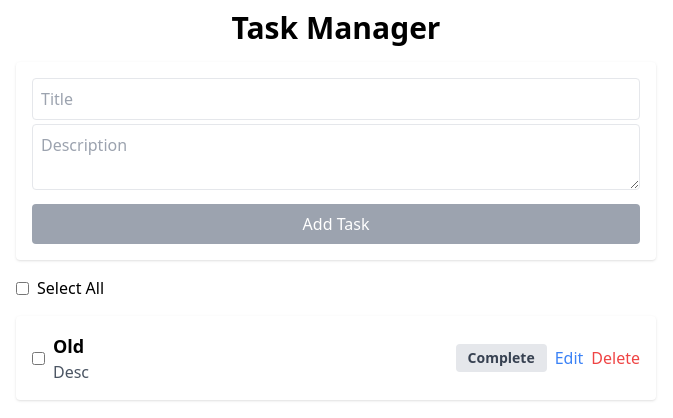
Scenario: App Component › can type valid title and description and enable button
In the field with placeholder "Title": (336, 99) [32,78,640,120], type "Valid Title"
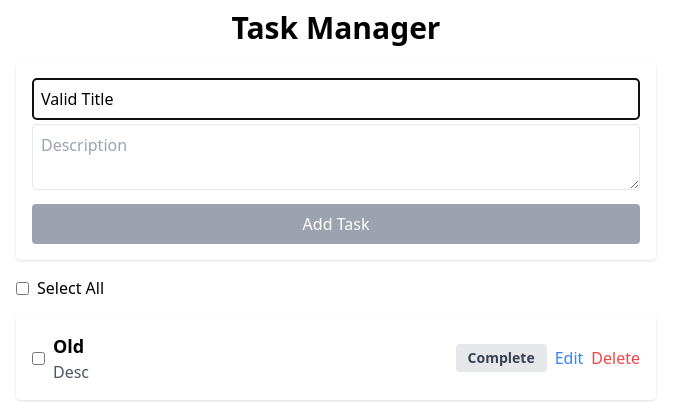
In the text box with placeholder "Description": (336, 157) [32,124,640,190], type "Valid Description"
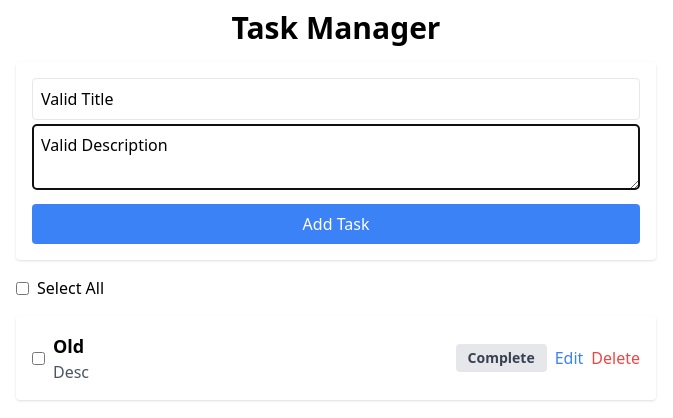
Expected: the button "Add Task" is enabled, [32,204,640,244]
